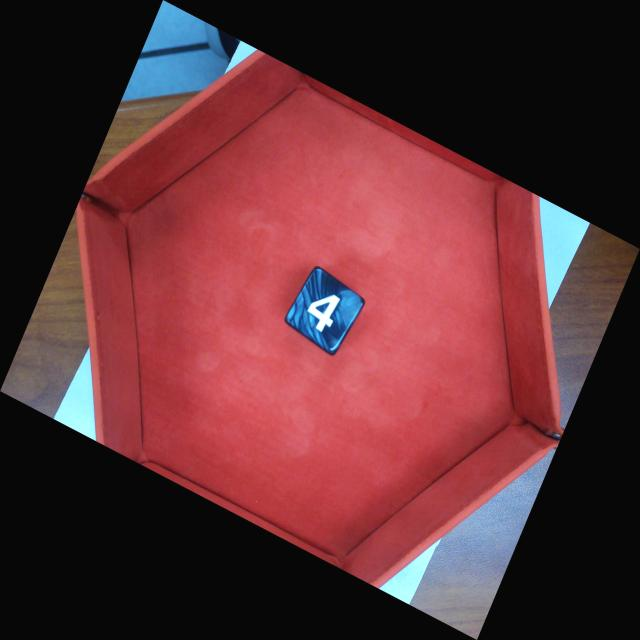dice: (288, 268, 371, 358)
